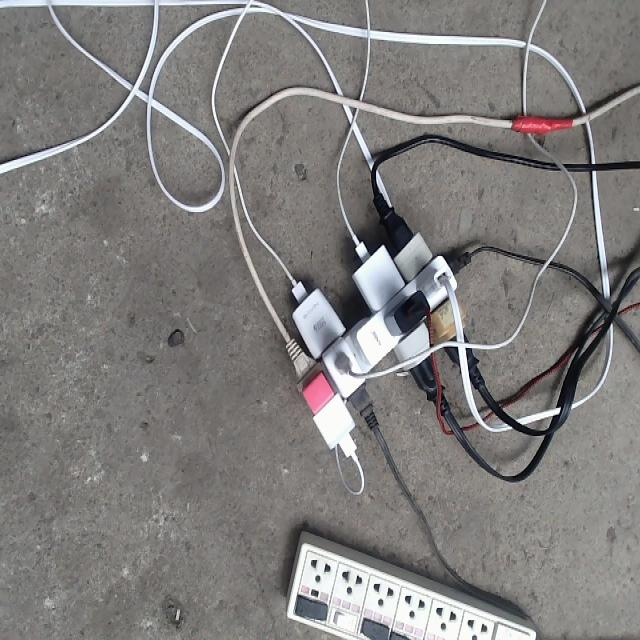-: (281, 190, 486, 458)
